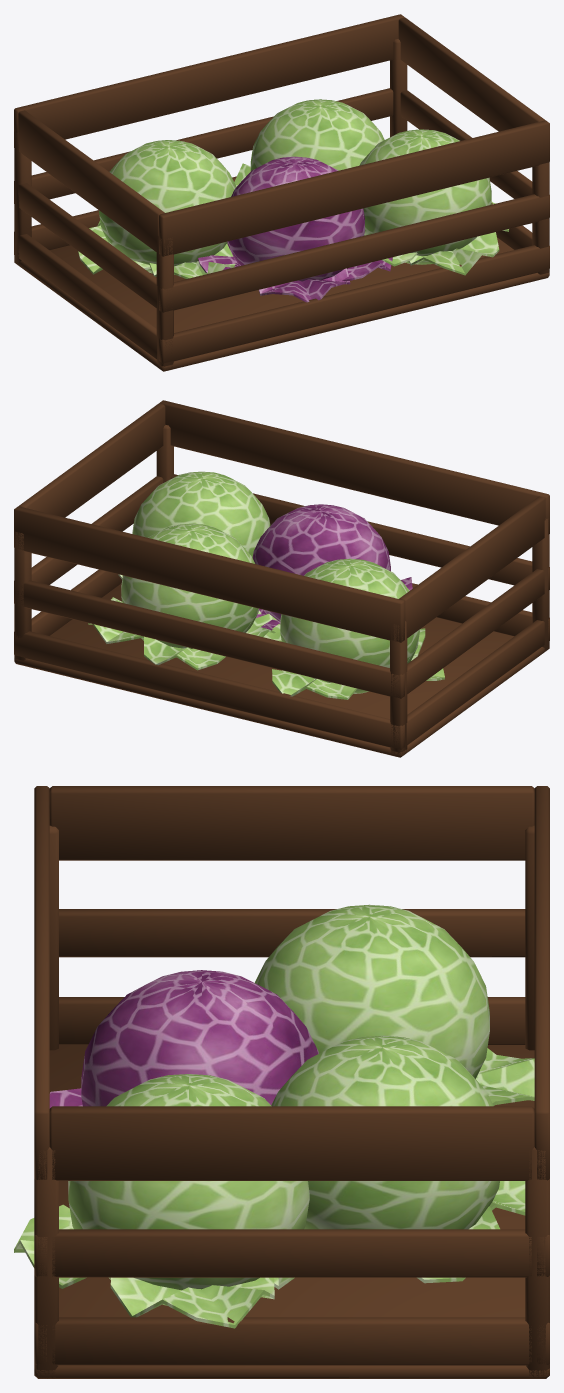
The model's file is harvest_crate_cabbages.glb.
The picture shows the model from 3 angles, top to bottom: view 1: azimuth 30°, elevation 25°; view 2: azimuth 150°, elevation 25°; view 3: azimuth 270°, elevation 25°; orthographic projection. The views are drawn at different scales.
Visible parts, largest first — view 1: harvest_crate_cabbages; view 2: harvest_crate_cabbages; view 3: harvest_crate_cabbages.
Part boxes in pixels (x1,y1,x2,y2): harvest_crate_cabbages: [14, 14, 549, 371]; harvest_crate_cabbages: [14, 400, 549, 757]; harvest_crate_cabbages: [14, 786, 549, 1378].
Size of the model in its own units: 0.6044 by 0.2301 by 0.4158.
Materials: 3 (2 with a texture image).
